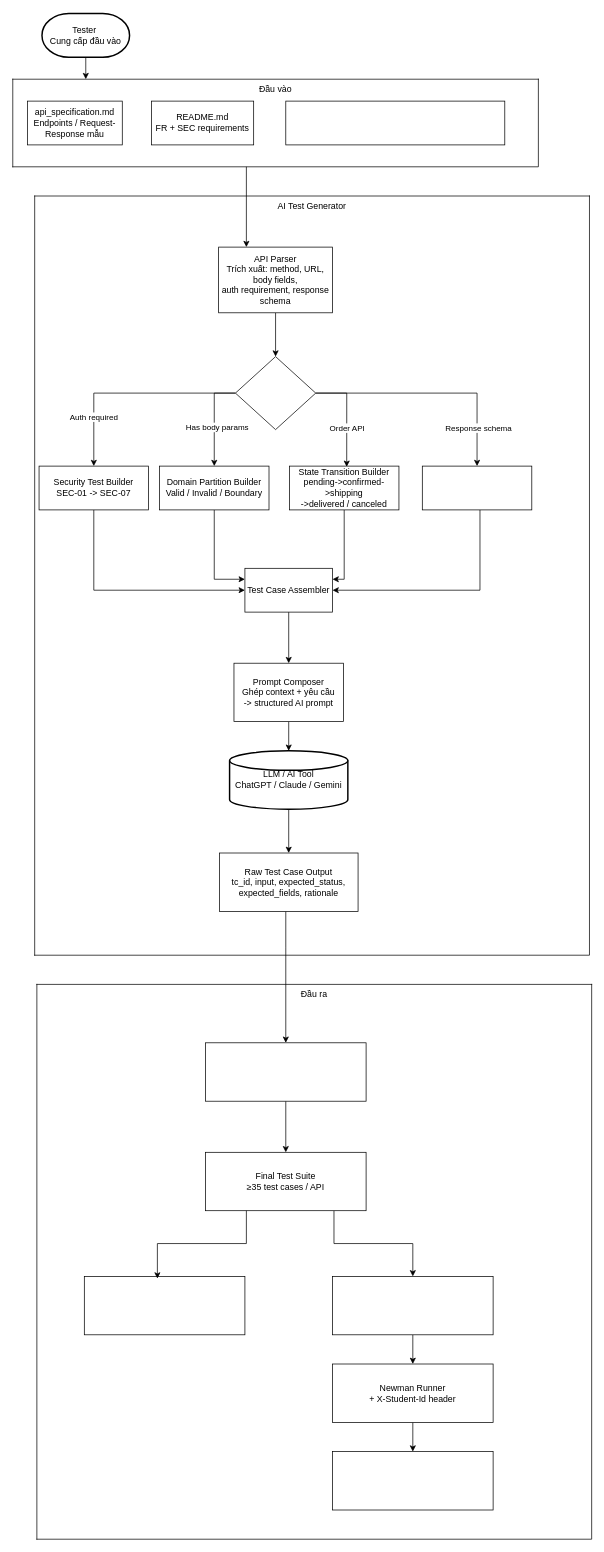
Image size: 604x1552. Some labels were removed from this diagram. Each missing label, with the centre of its shape:
"Human Audit VALID / INVALID / INCOMPLETE" belongs at point (285, 1071).
"Newman HTML Report" belongs at point (412, 1480).
"Phân loại API" belongs at point (275, 393).
"Postman Collection .postman_collection.json" belongs at point (412, 1305).
"Postman Data File mini-api.data.json" belongs at point (164, 1305).
"Schema Validation Builder Field names, types, required" belongs at point (477, 487).
"State Machine FR-10: pending->confirmed->shipping->delivered" belongs at point (395, 122).
